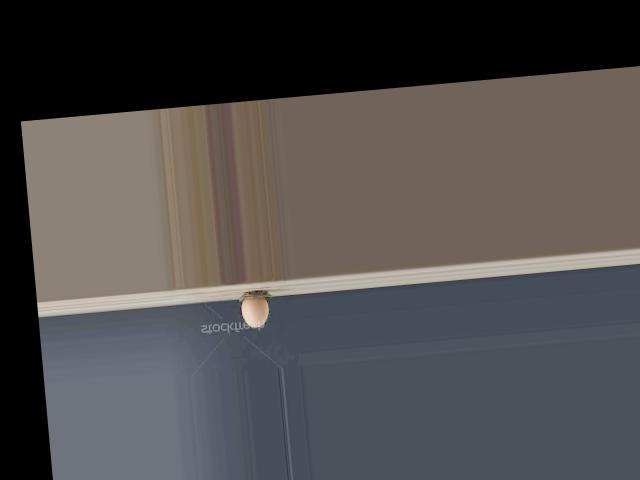egg: (241, 296, 270, 328)
